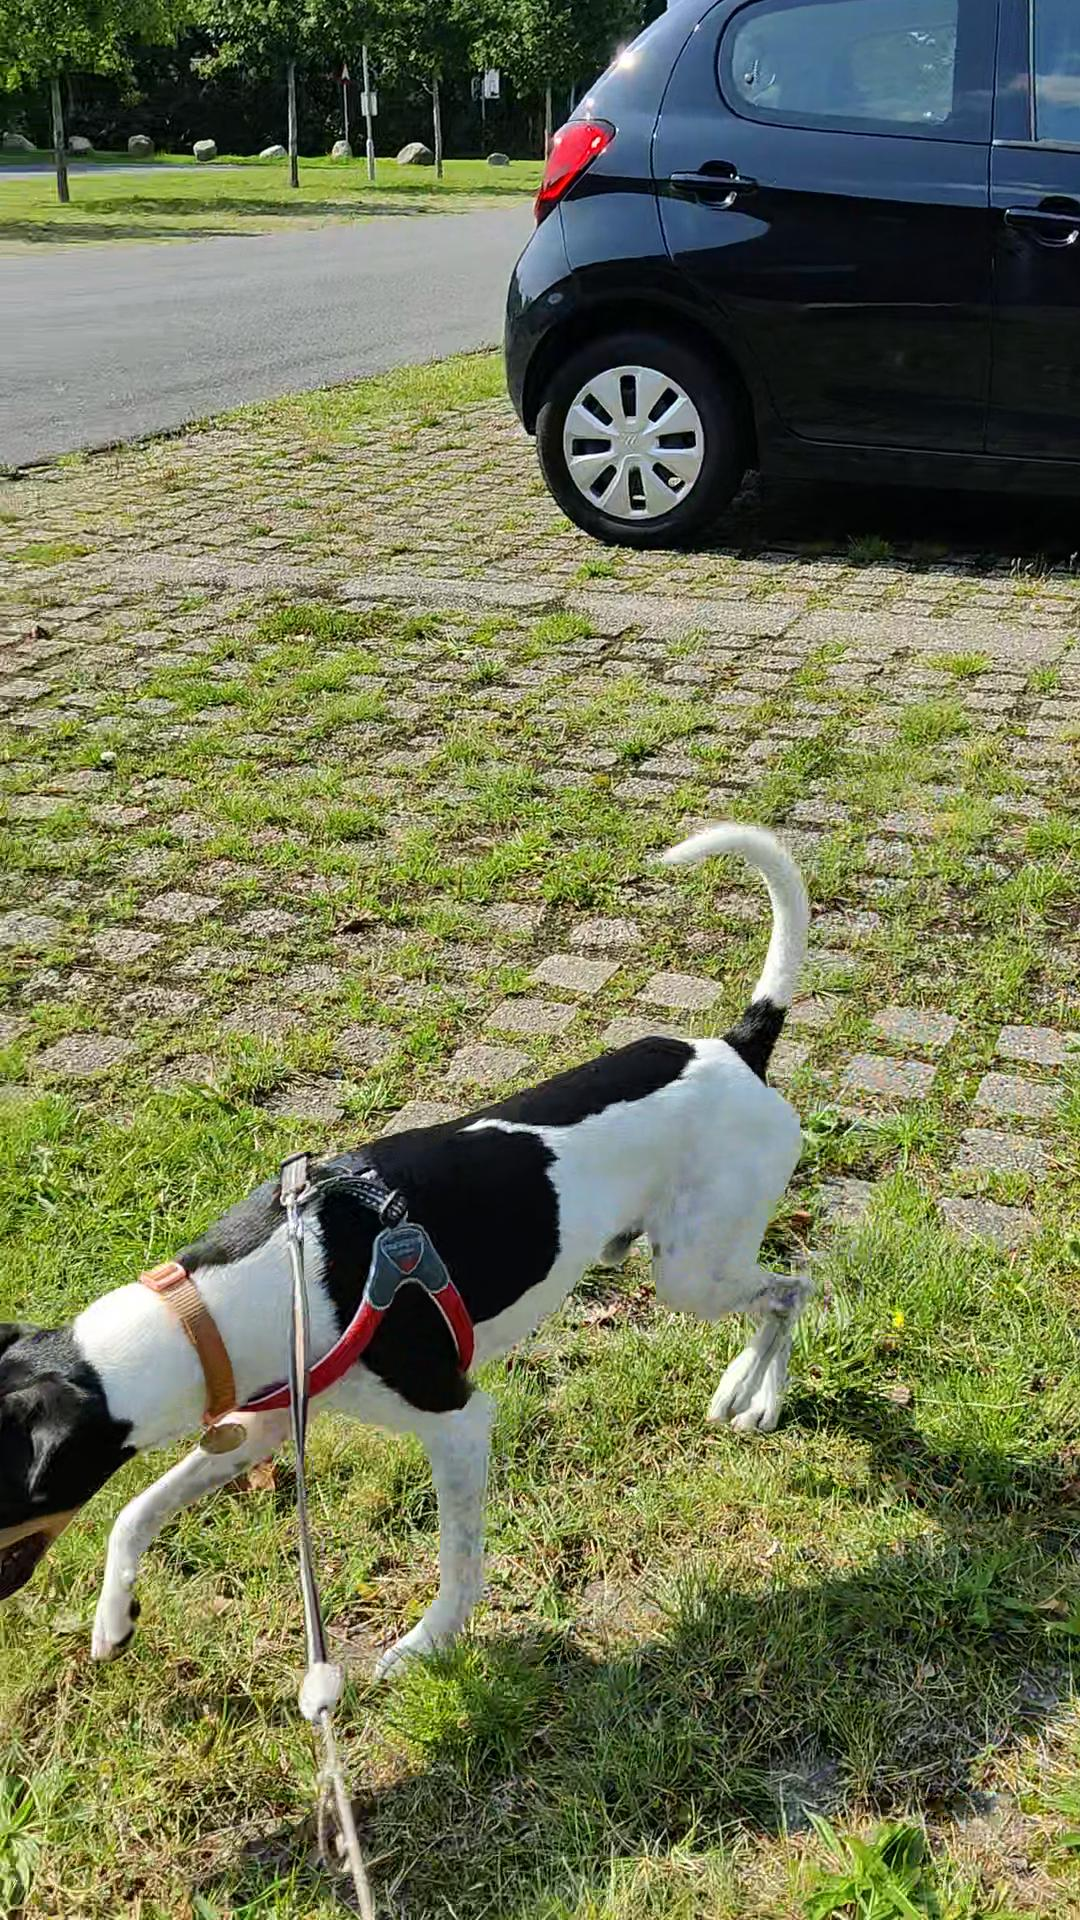Dog: (0, 816, 824, 1692)
